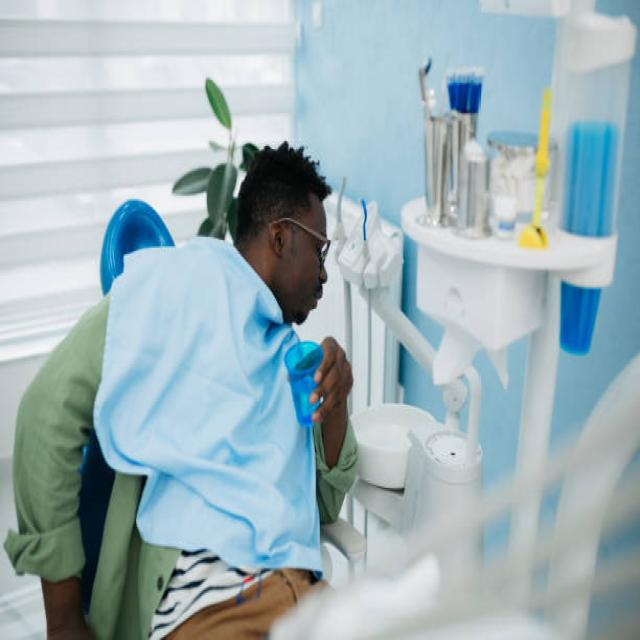Spitting: (229, 139, 376, 427)
